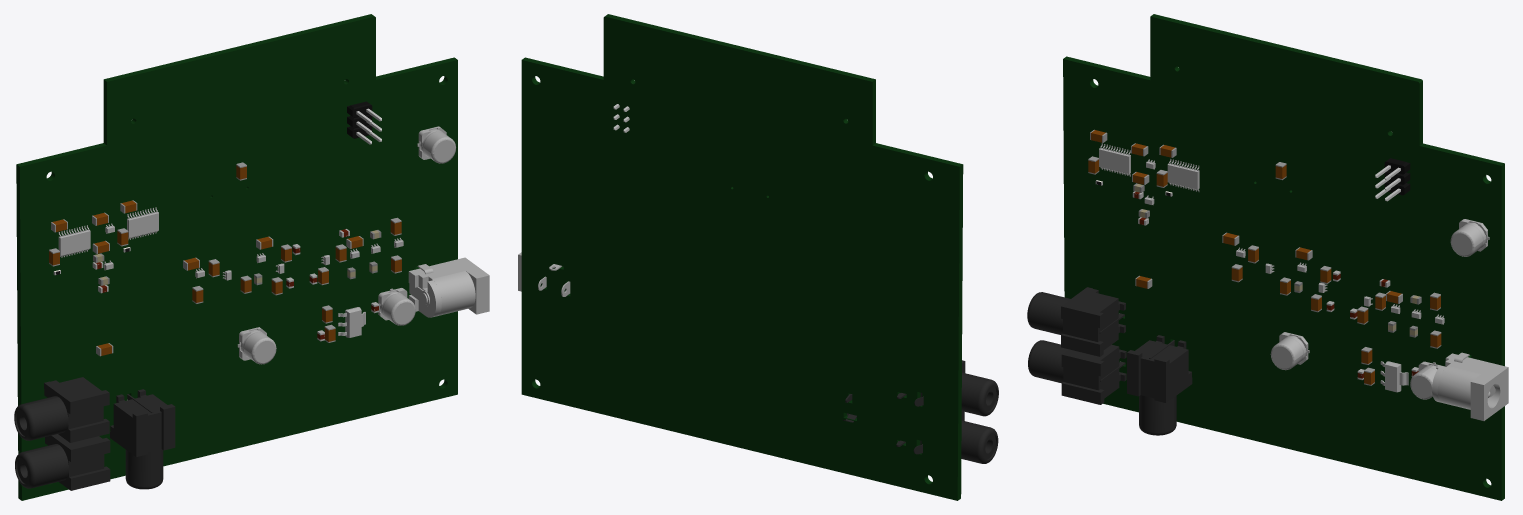
Rendered from LA_SOM_01-2K25.glb.
The picture shows the model from 3 angles, left to right: view 1: azimuth 30°, elevation 25°; view 2: azimuth 150°, elevation 25°; view 3: azimuth 330°, elevation 25°; orthographic projection.
Bounding box in the file's own units: 117 × 97.23 × 15.9.
